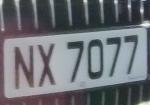0: (84, 36, 107, 82)
7: (64, 36, 88, 88), (102, 33, 124, 81), (121, 32, 143, 79)
N: (12, 39, 35, 97)
X: (35, 38, 59, 92)
